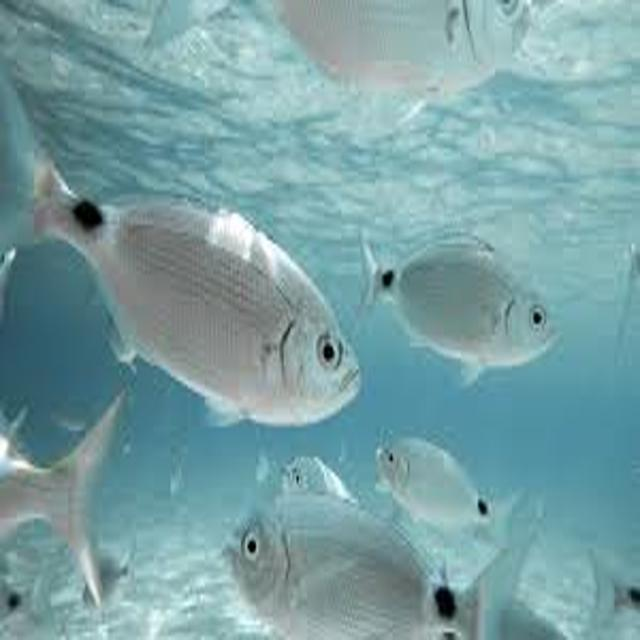fish: (2, 74, 365, 425), (227, 491, 530, 640), (146, 0, 534, 93), (363, 232, 566, 389), (0, 386, 130, 608), (378, 436, 519, 540), (279, 453, 364, 513)
